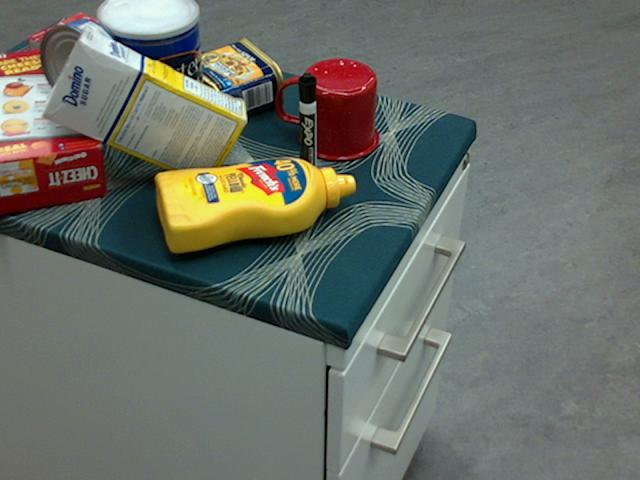cracker_box: (0, 48, 107, 213)
gelatin_box: (30, 13, 124, 75)
large_marker: (297, 72, 317, 180)
master_chef_can: (98, 0, 203, 150)
mug: (276, 58, 377, 161)
mustard_bottle: (154, 157, 356, 253)
potted_meat_can: (179, 37, 284, 124)
sugar_box: (43, 28, 248, 184)
tomato_soup_can: (90, 8, 178, 98)
tuna_fish_can: (40, 18, 126, 108)
